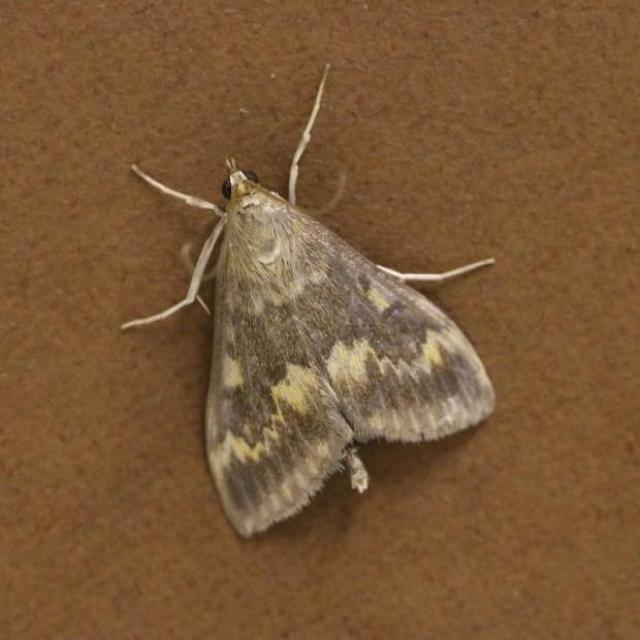cornborer-Adult-: (100, 60, 526, 548)
